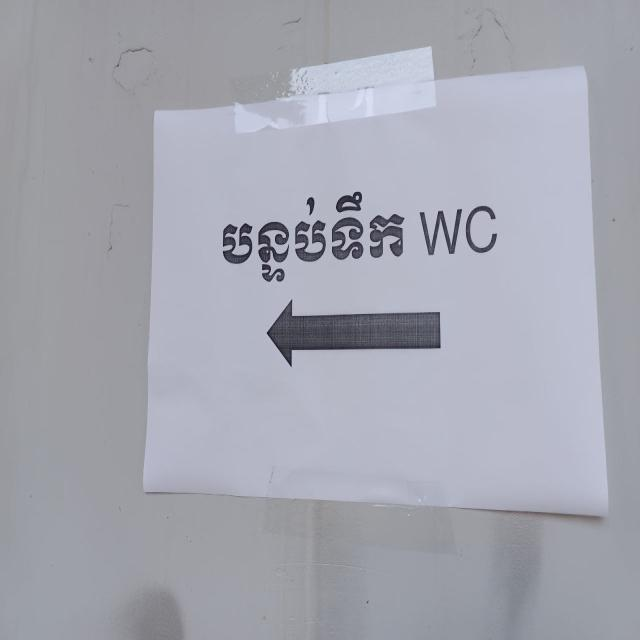Yolov11kh: (210, 177, 408, 287)
